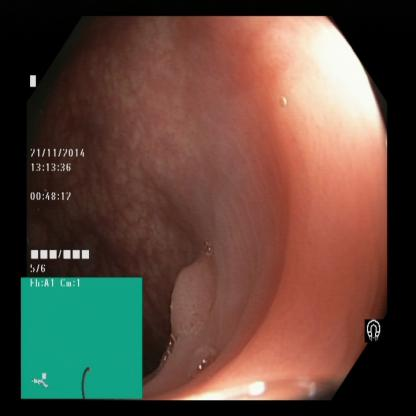Labels: (27, 70, 108, 278), (23, 277, 141, 399), (358, 308, 390, 344)
Polyps: (165, 250, 214, 348)
